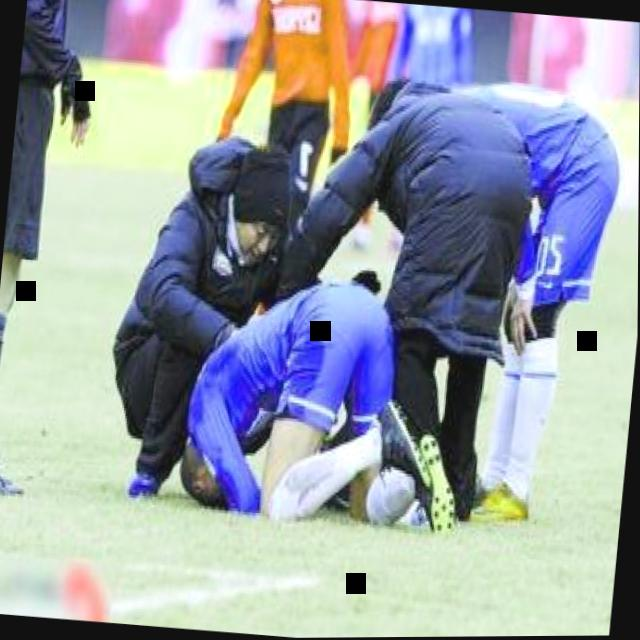Fall-Detected: (171, 242, 462, 537)
